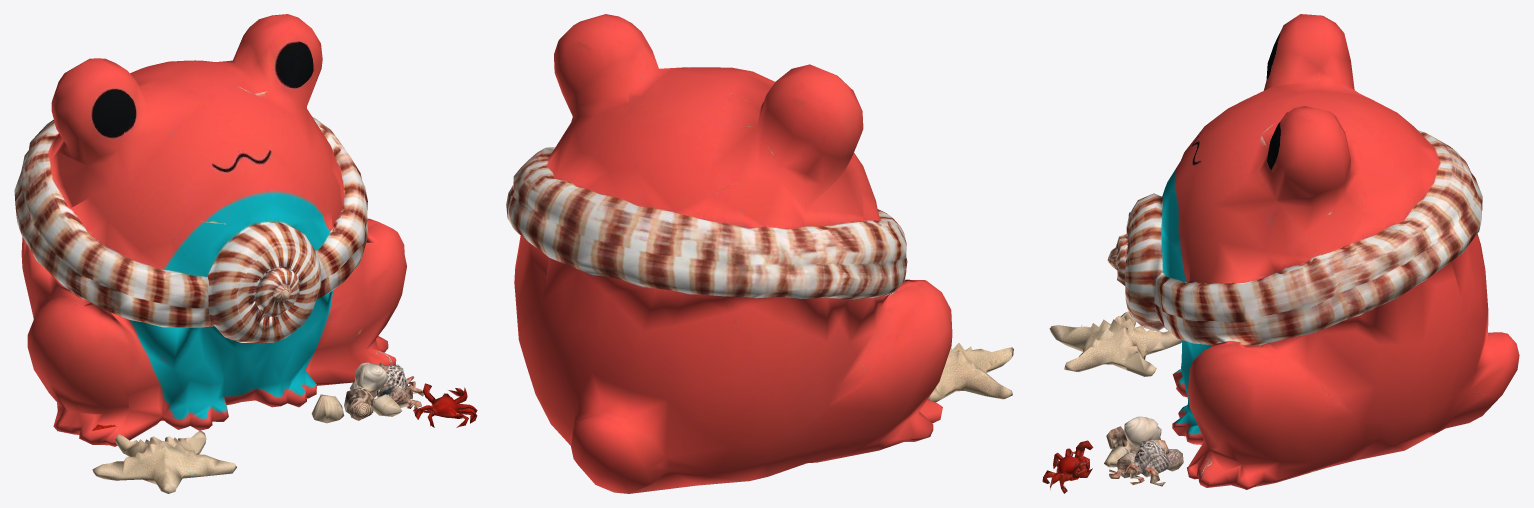
The model's file is bernard-lhermite.glb.
3 views of the same model, side by side, from view 1: azimuth 30°, elevation 25°; view 2: azimuth 150°, elevation 25°; view 3: azimuth 270°, elevation 25° (orthographic). The views are drawn at different scales.
Visible parts, largest first — view 1: mesh_node; view 2: mesh_node; view 3: mesh_node.
Boxes of the visible parts, x1,y1,x2,y2 form: mesh_node: [14, 14, 477, 493]; mesh_node: [506, 14, 1013, 493]; mesh_node: [1042, 14, 1519, 493].
Size of the model in its own units: 1.74 by 1.53 by 1.9.
Materials: 1 (1 with a texture image).
